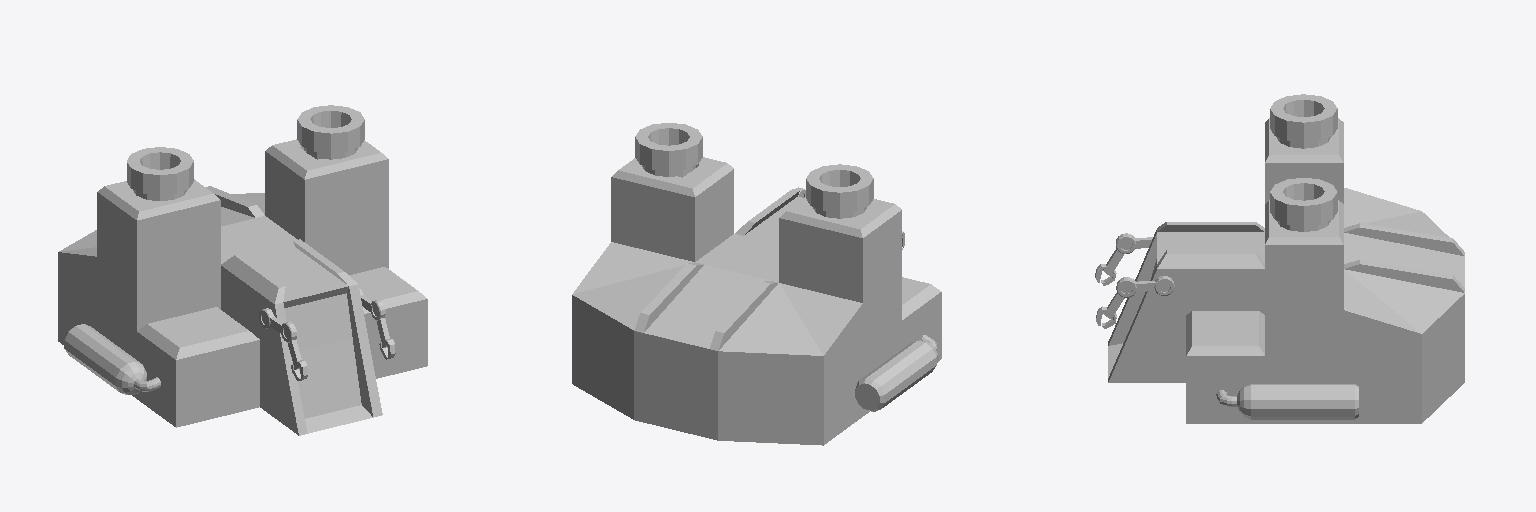
File: BigTurretFactory.obj
3 renders of one model, left to right at view 1: azimuth 30°, elevation 25°; view 2: azimuth 150°, elevation 25°; view 3: azimuth 270°, elevation 25°, orthographic.
Size of the model in its own units: 17.32 by 11.43 by 17.99.